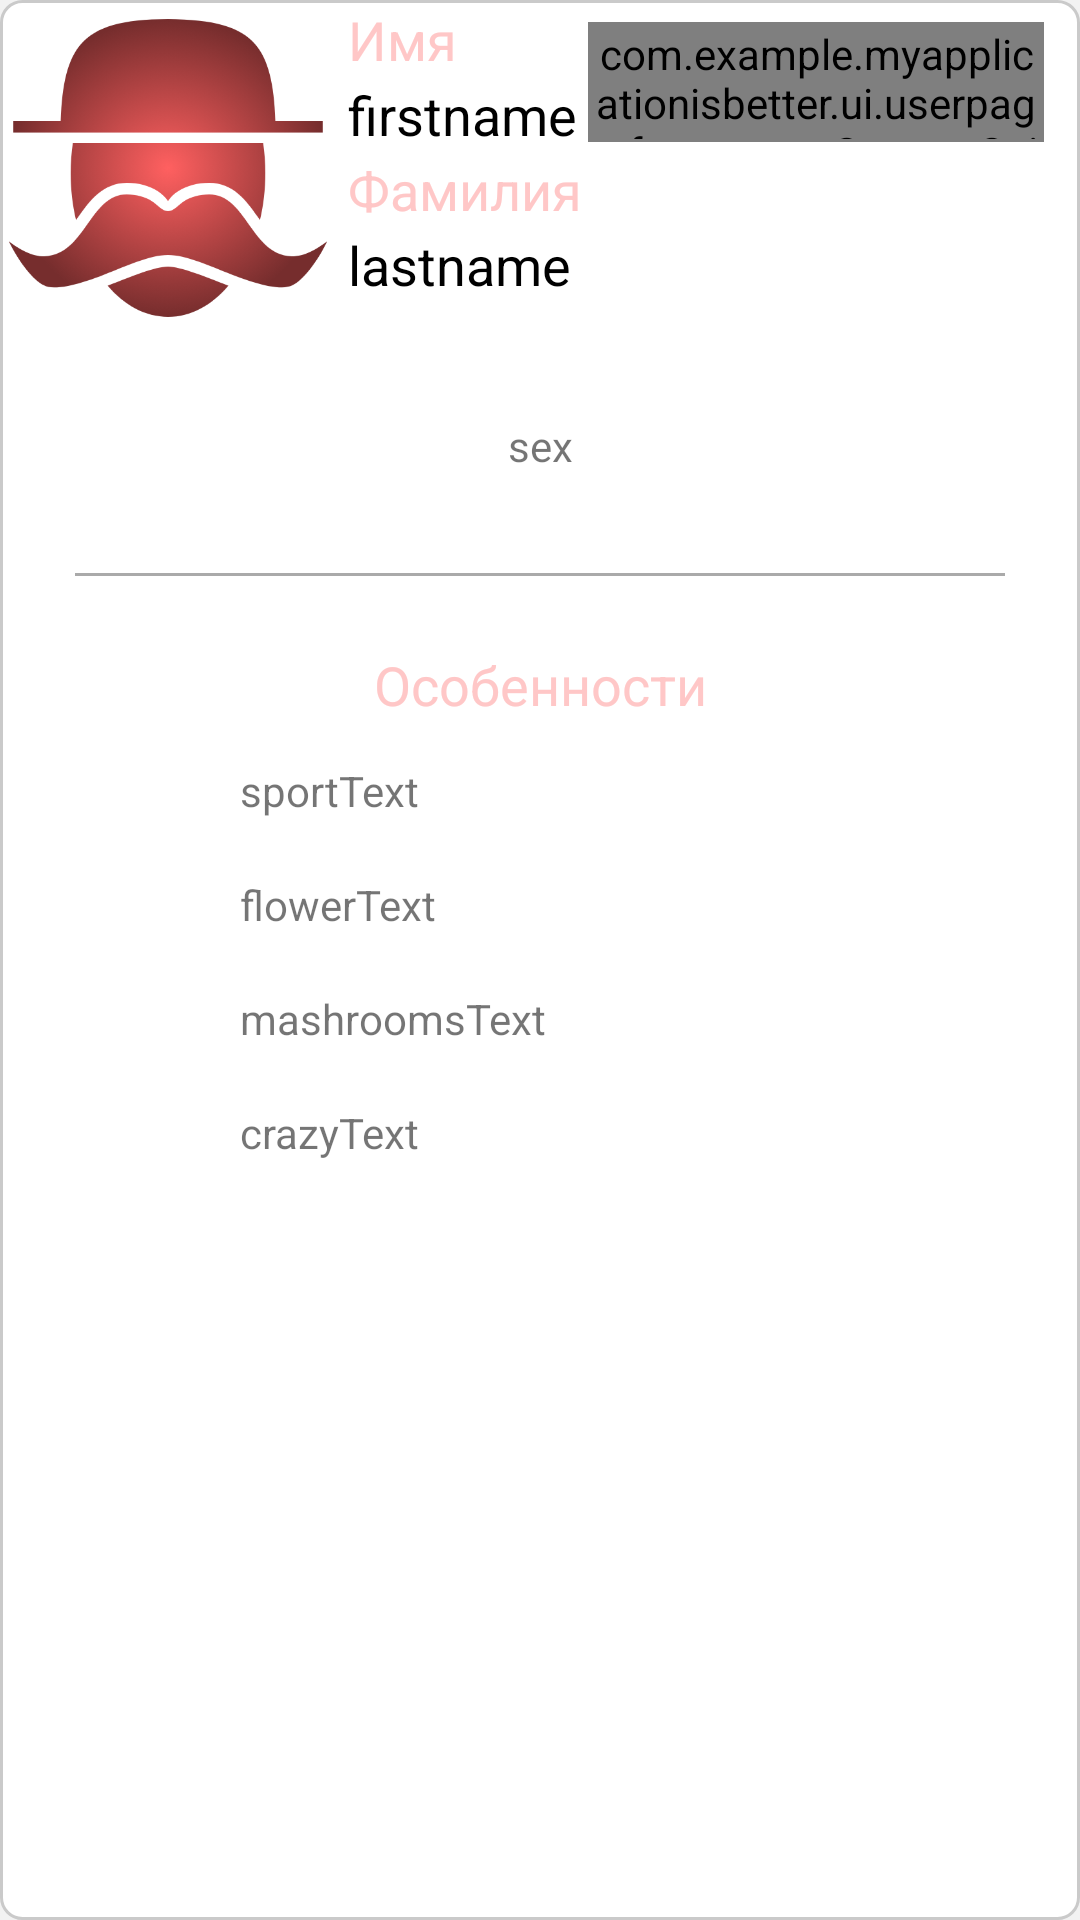

Named icons in this screenshot (1080*1920) and their bounding boxes, (x1=x1, y1=y1, x2=x2, y2=y2):
mustache: (x1=9, y1=19, x2=327, y2=317)
